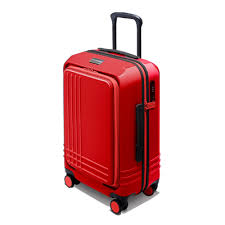suitcase: (60, 12, 162, 214)
